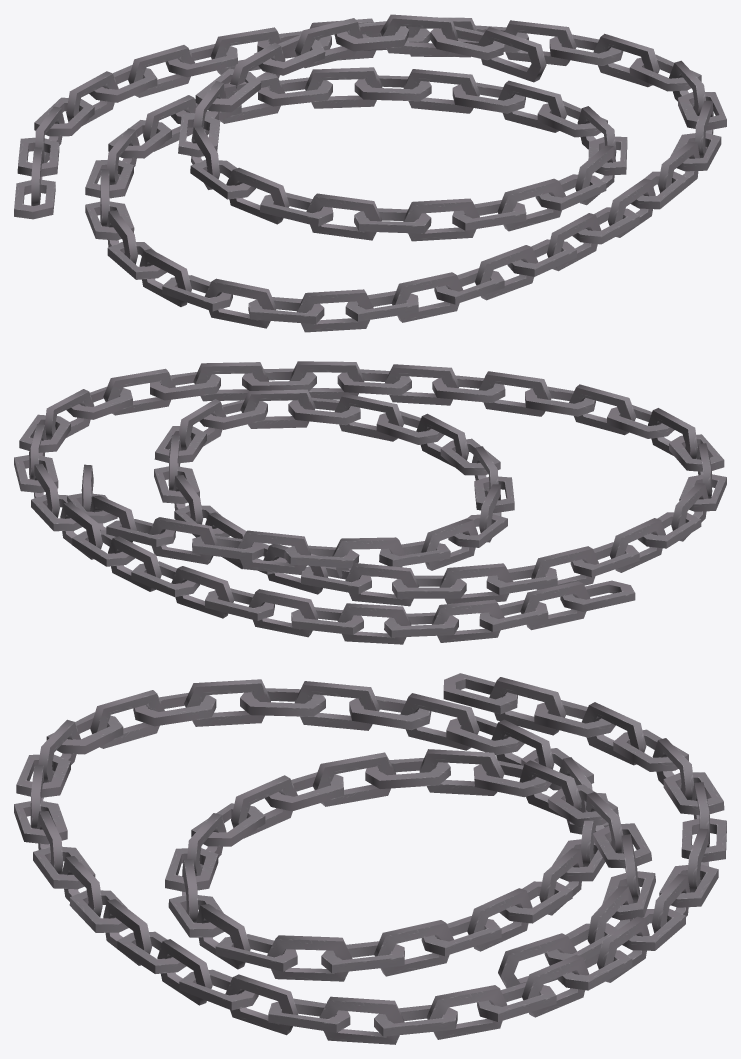
Rendered from prop-qp-chaincoil.glb.
3 views of the same model, one above another, from view 1: azimuth 30°, elevation 25°; view 2: azimuth 150°, elevation 25°; view 3: azimuth 270°, elevation 25° (orthographic). The views are drawn at different scales.
Parts seen in each view (by area): view 1: Cylinder_002; view 2: Cylinder_002; view 3: Cylinder_002.
Boxes of the visible parts, bbox=[...] form: Cylinder_002: bbox=[14, 14, 726, 332]; Cylinder_002: bbox=[14, 361, 726, 644]; Cylinder_002: bbox=[14, 673, 726, 1044].
Bounding box in the file's own units: 1.07 × 0.0872 × 0.9077.
Materials: 1 (1 with a texture image).
